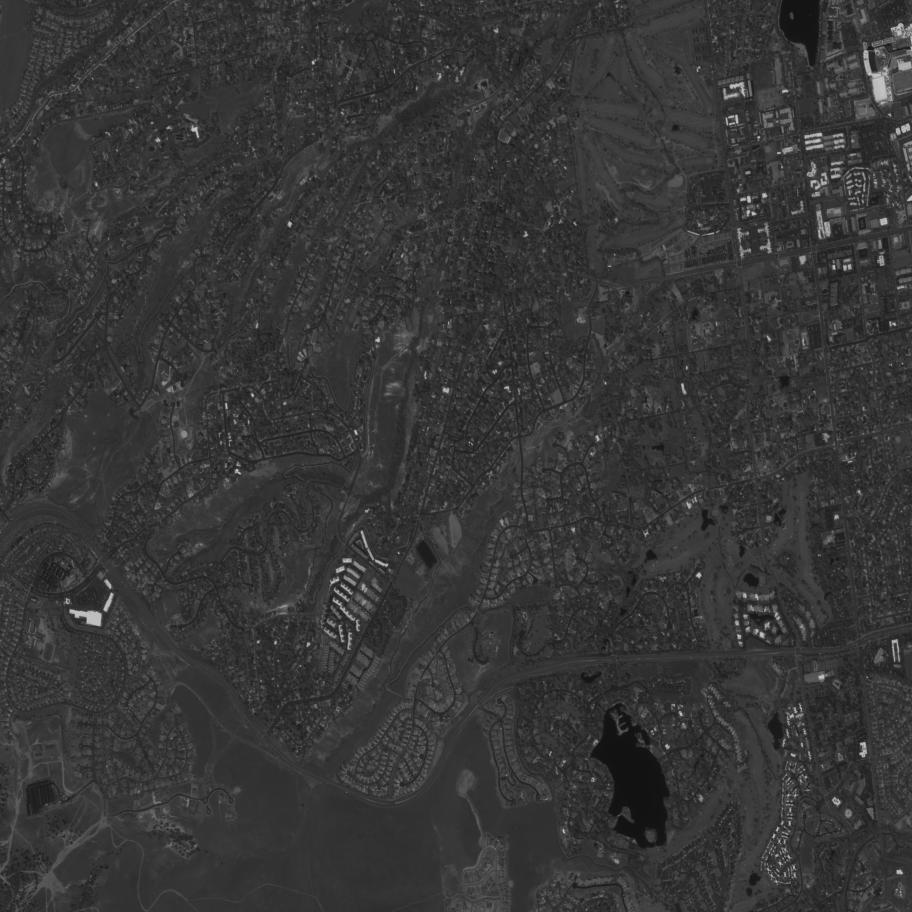storage-tank: (181, 430, 188, 438)
